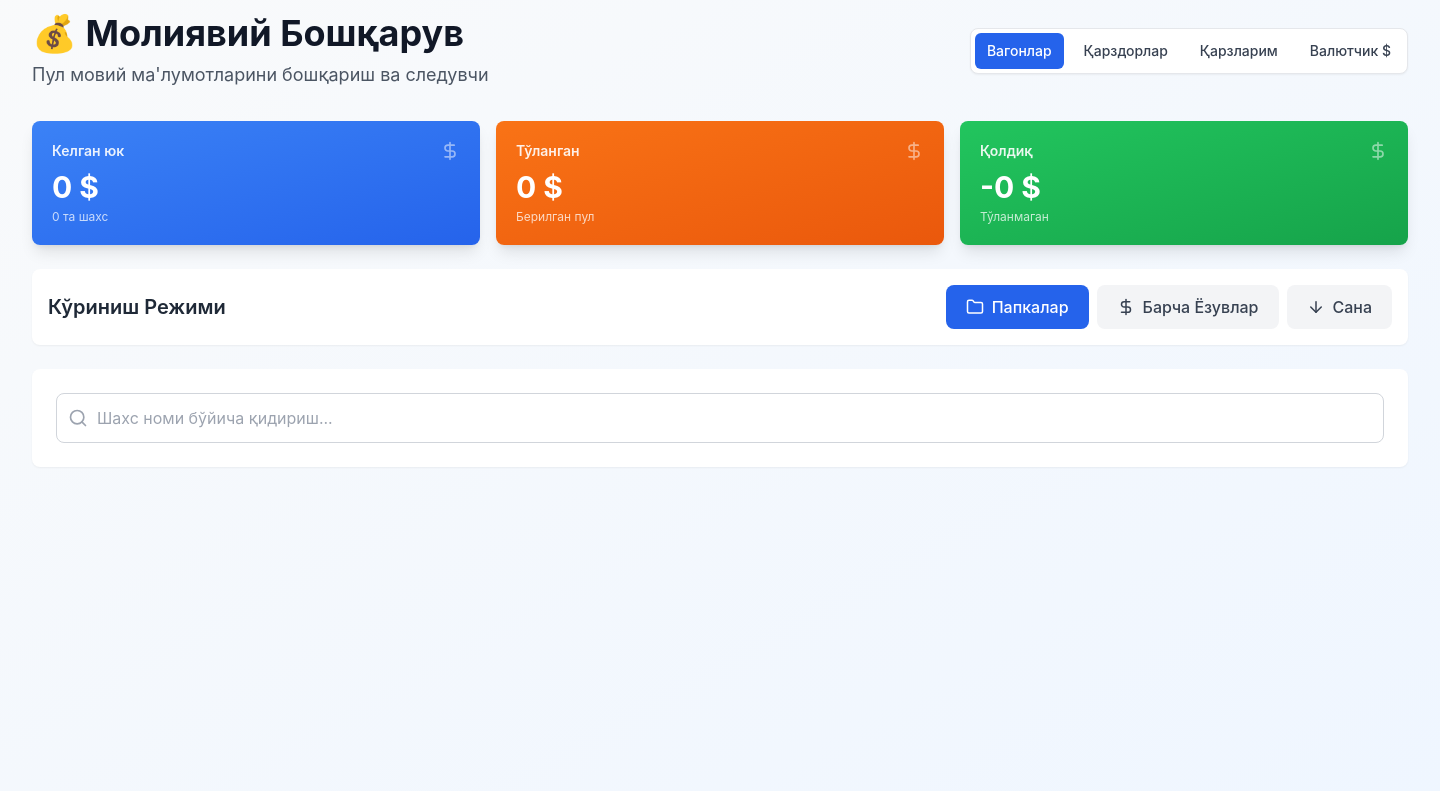
Moliya page › Шухрат in Қарздорлар: shows like a normal debtor; his repayment moves him back
This screenshot has width=1440, height=791.
Expected: the button "Вагонлар" is shown, [975,33,1064,69]
Click the button "Қарздорлар".
click(1126, 51)  # box [1072,33,1180,69]
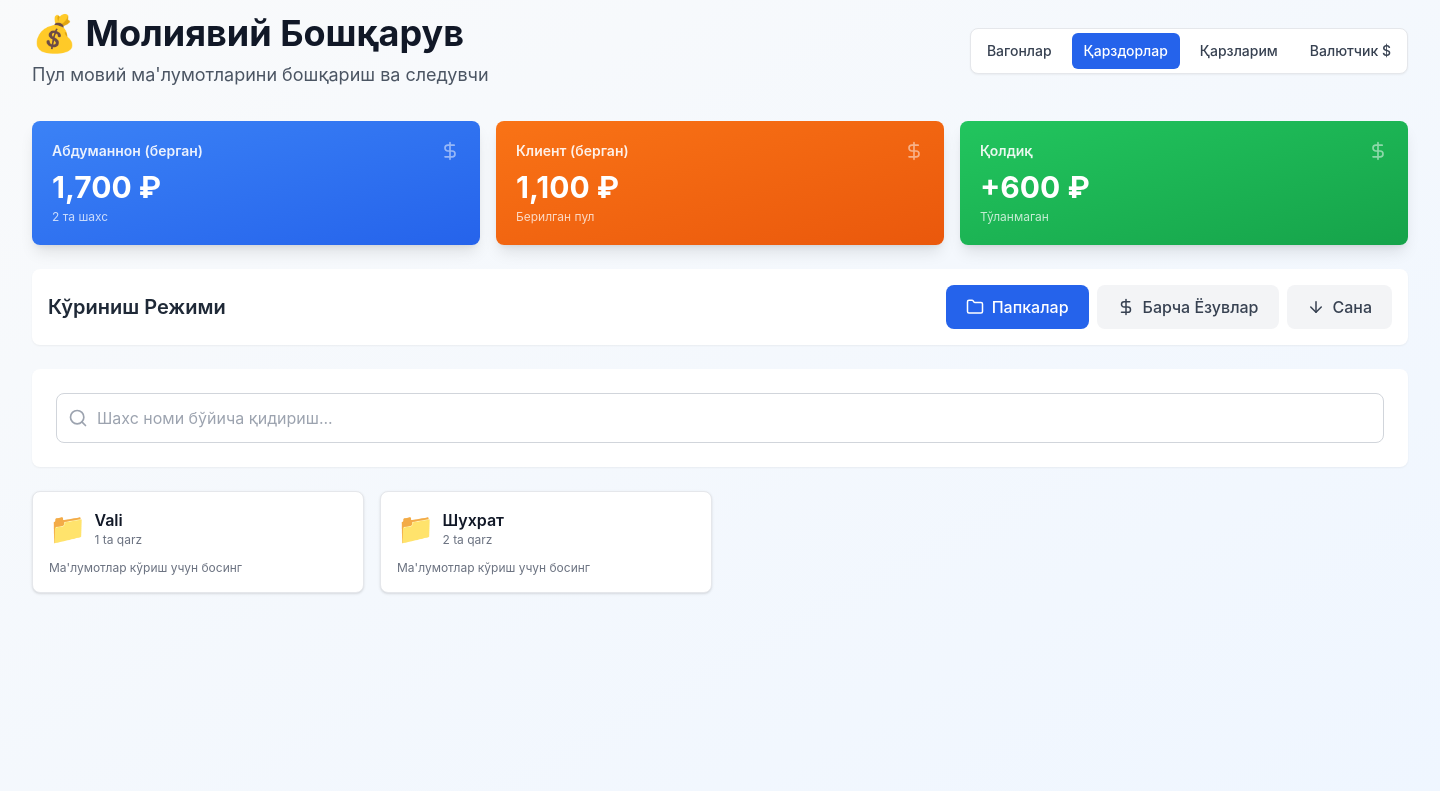
Click the heading "Шухрат".
click(473, 520)  # box [442,510,504,530]
(page scrolled)
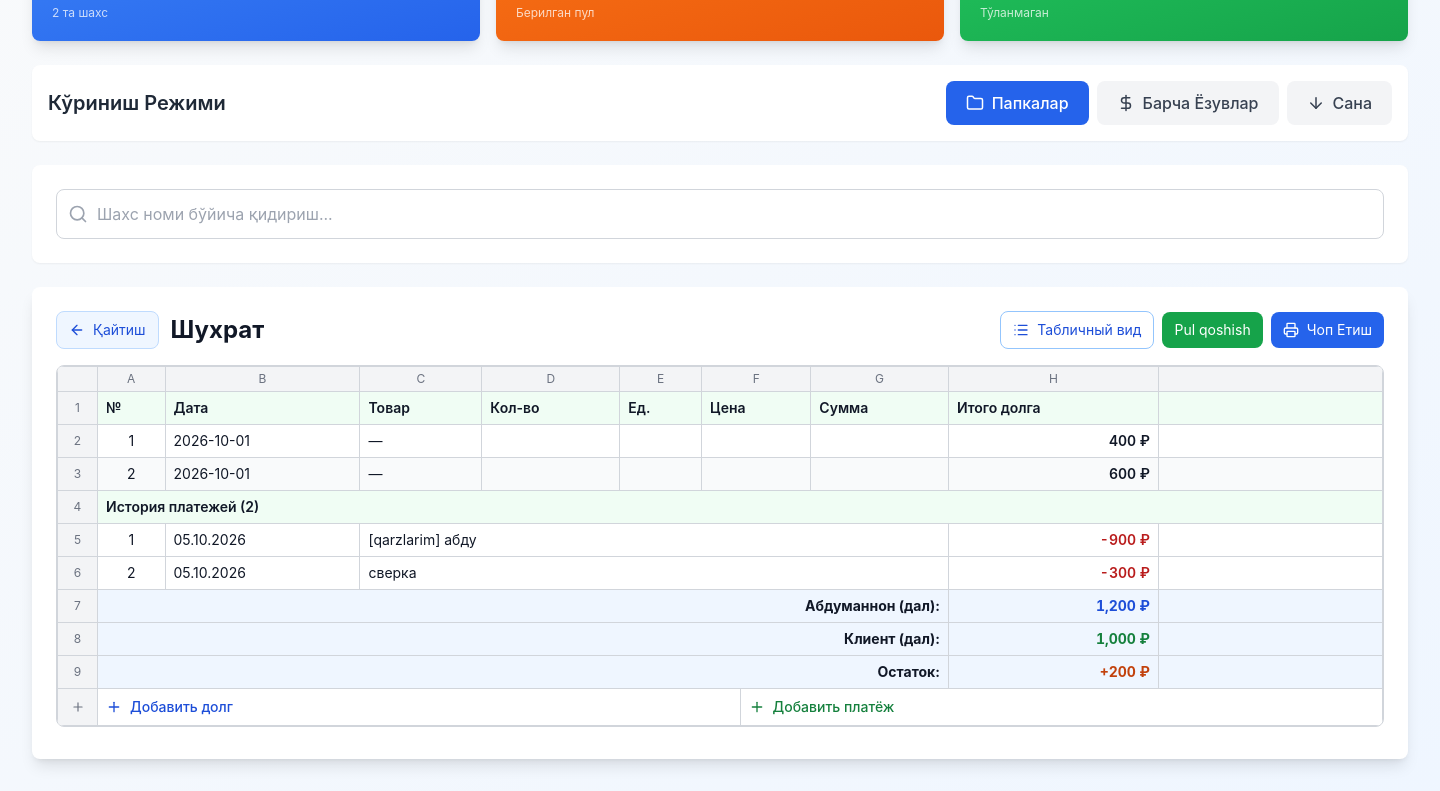
Result: the text "Абдуманнон (дал):" is shown at [98,590,948,622]
Result: the text "+200 ₽" is shown at [948,656,1158,688]
Click the button "Добавить платёж".
click(833, 706)  # box [740,689,1382,725]
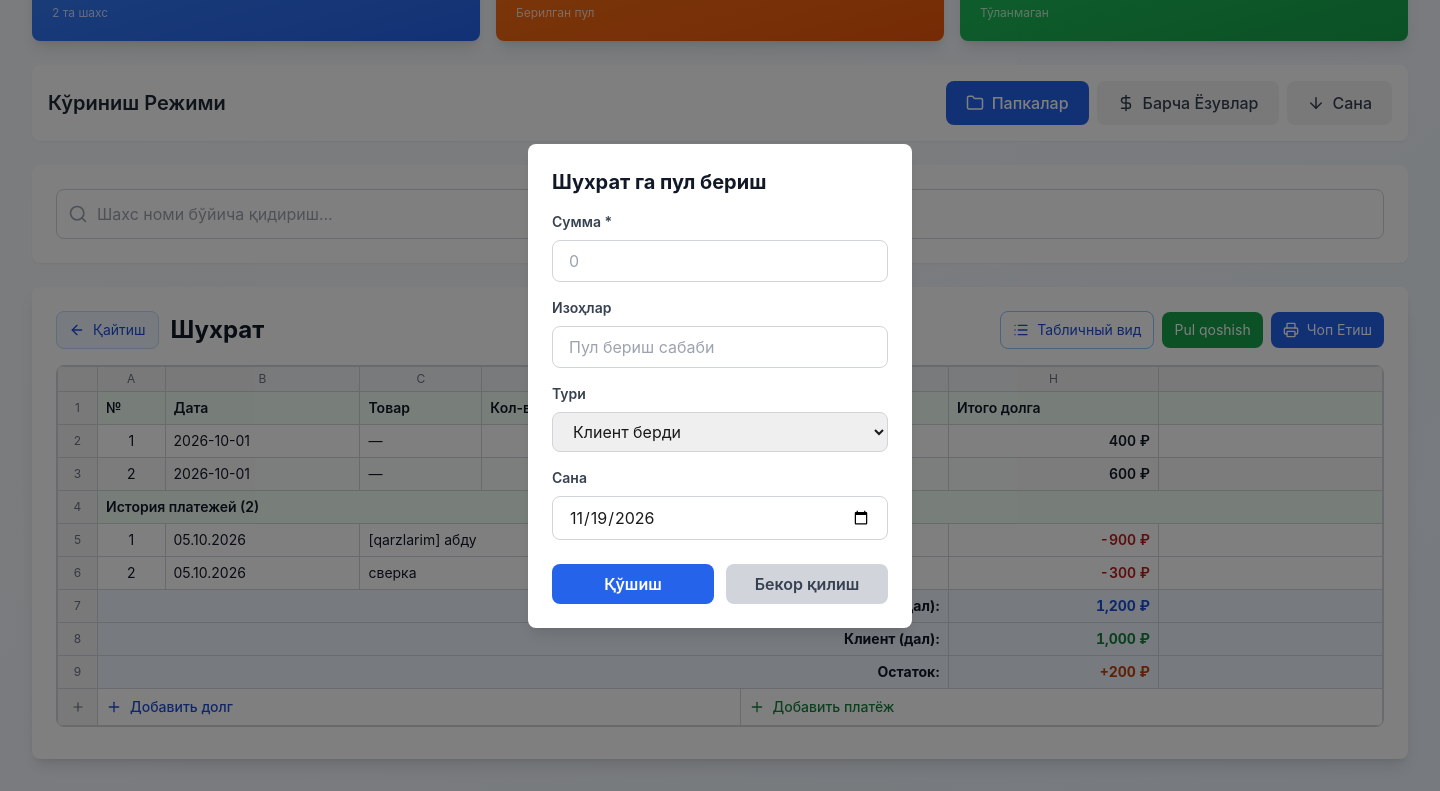
Type "200" into the number field with placeholder "0".
click(720, 261); type("200")  # box [552,240,888,282]
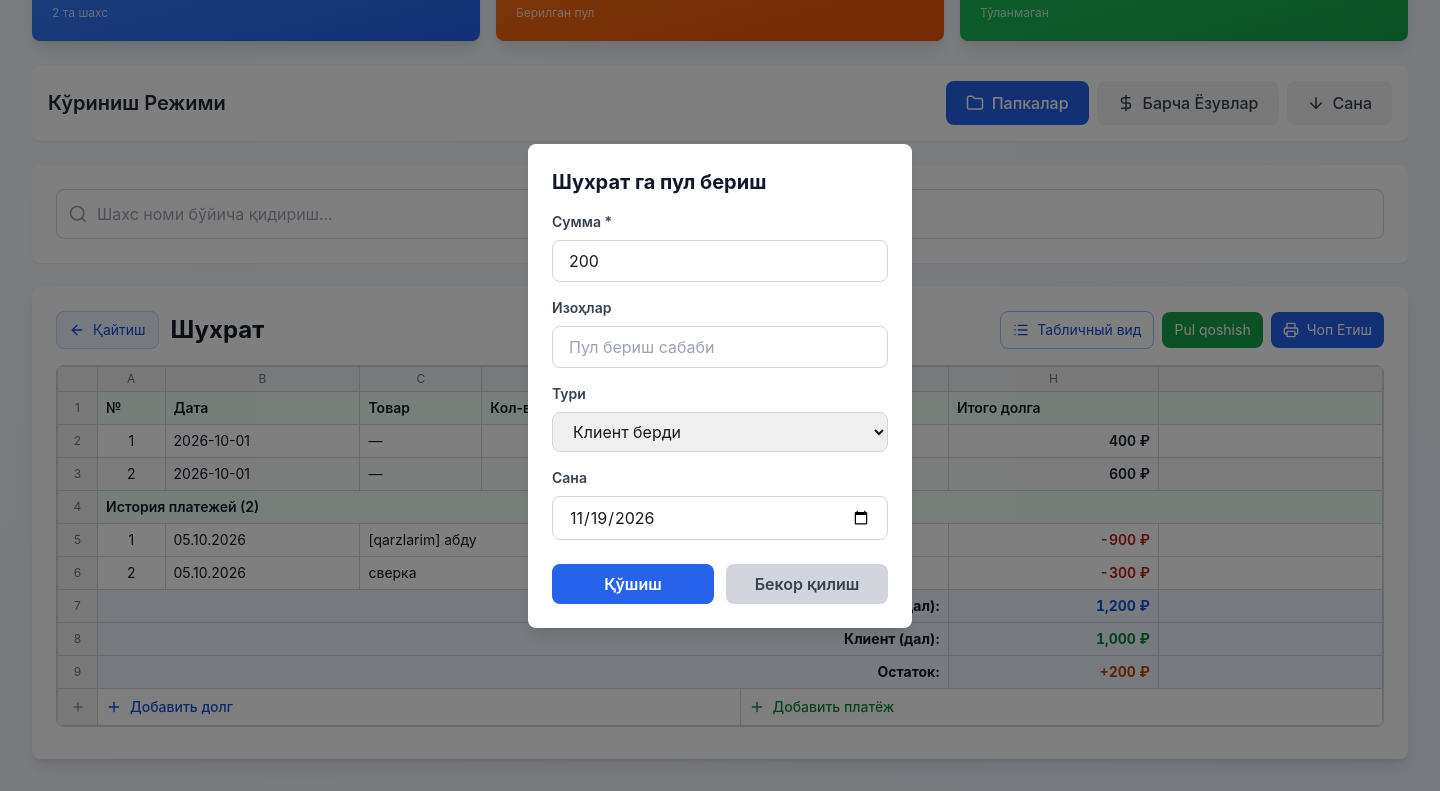
Click the button "Қўшиш".
click(633, 584)  # box [552,564,714,604]
(page scrolled)
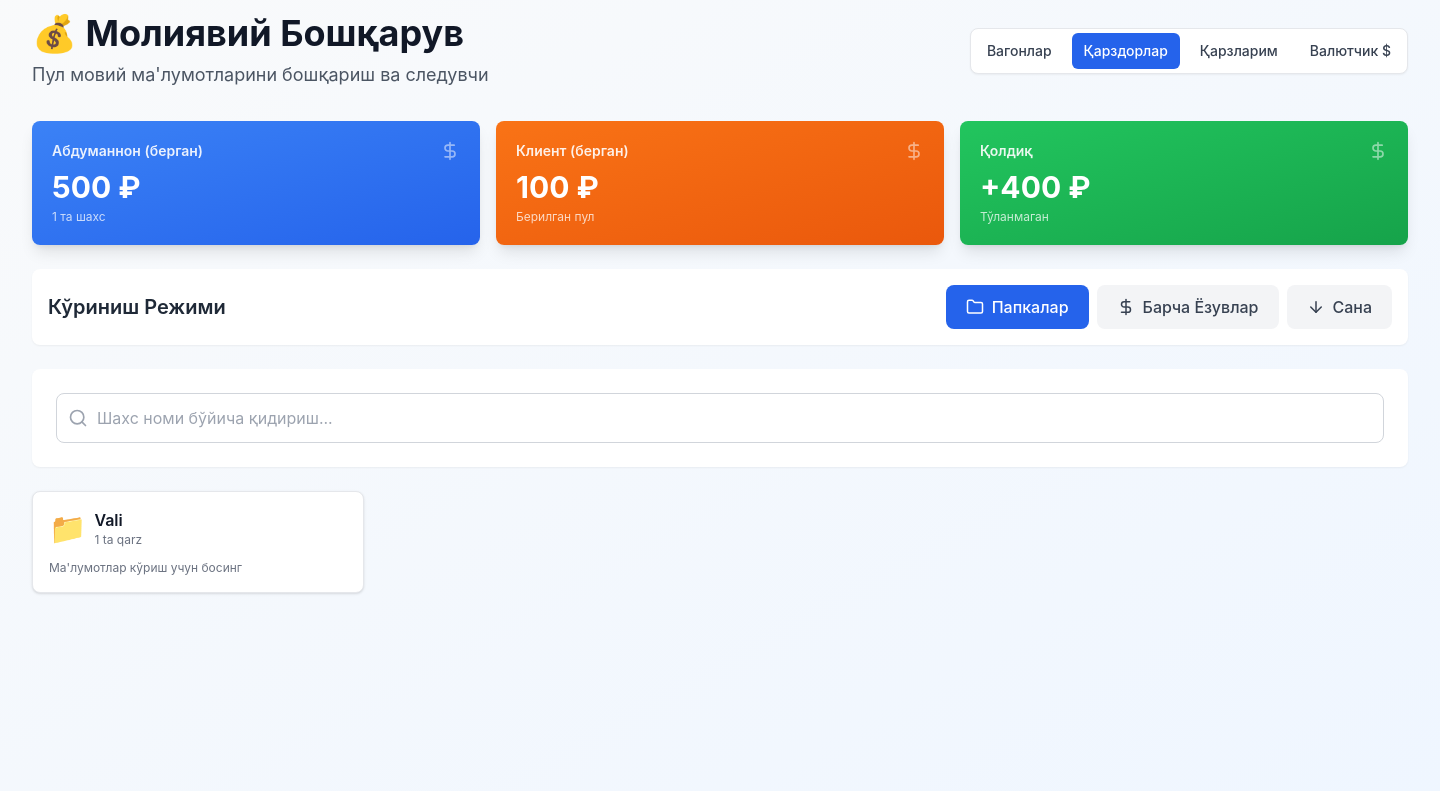
Click the button "Қарзларим".
click(1239, 51)  # box [1188,33,1290,69]
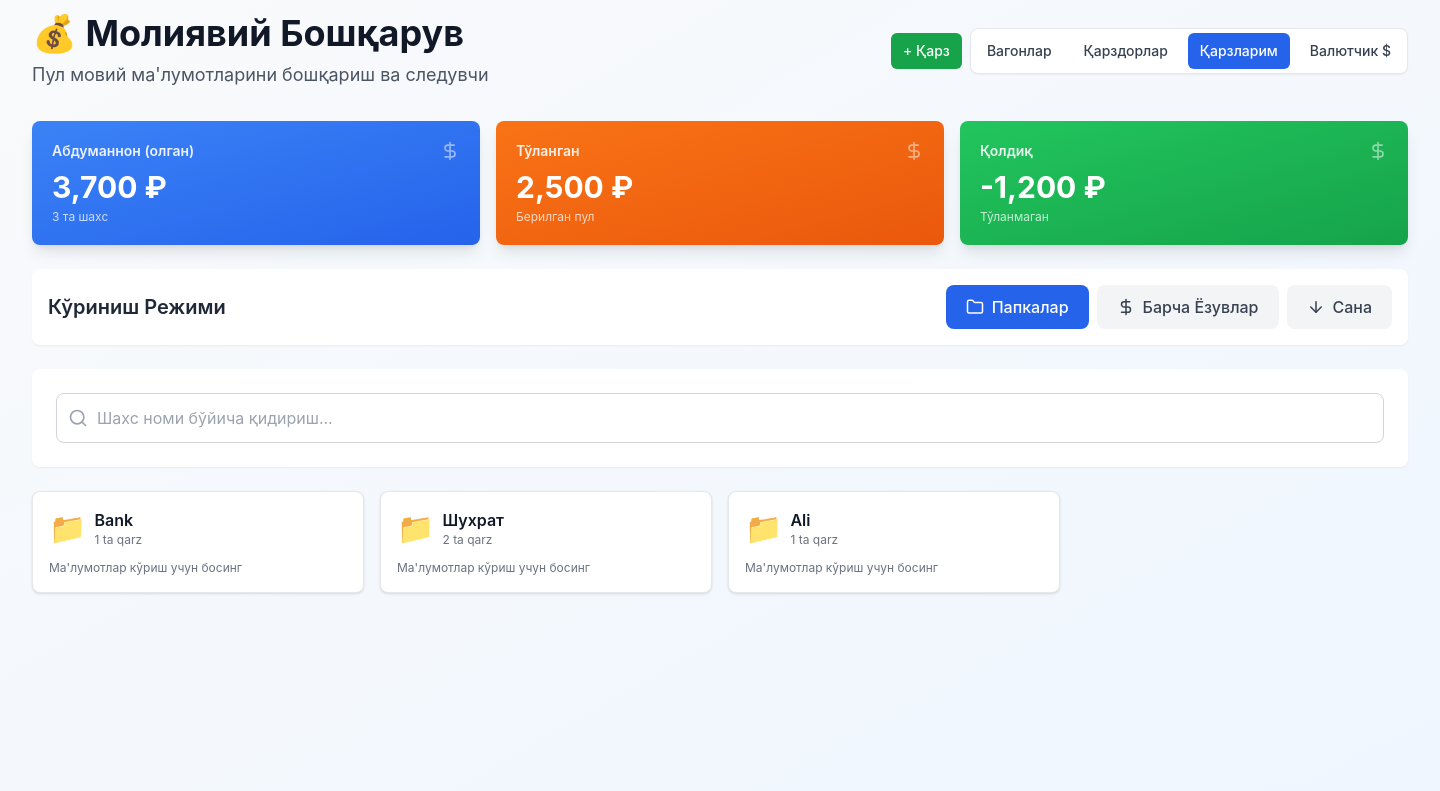
Result: the heading "Шухрат" is shown at [442,510,504,530]
